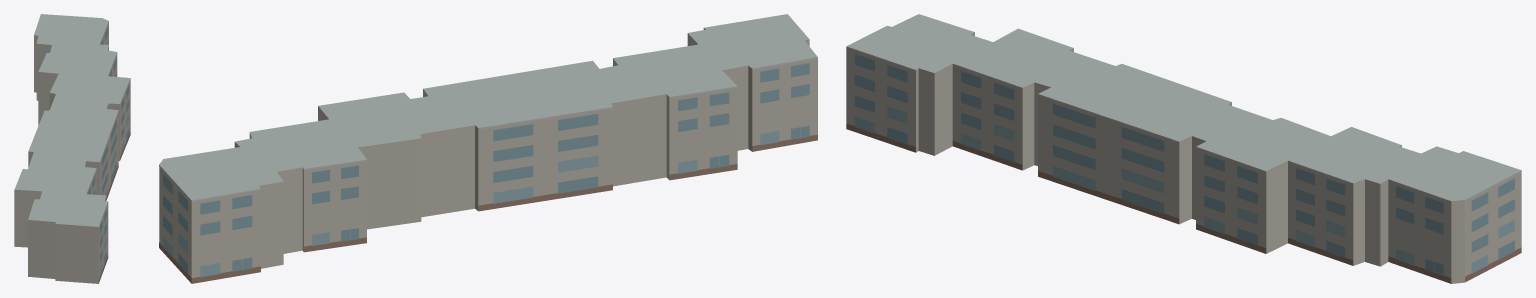
The model's file is survey-upis-32634933.glb.
The picture shows the model from 3 angles, left to right: view 1: azimuth 30°, elevation 25°; view 2: azimuth 150°, elevation 25°; view 3: azimuth 270°, elevation 25°; orthographic projection. The views are drawn at different scales.
Visible parts, largest first — view 1: survey-upis-32634933.tmp; view 2: survey-upis-32634933.tmp; view 3: survey-upis-32634933.tmp.
Part boxes in pixels (<box>): survey-upis-32634933.tmp: <box>14,14,130,283</box>; survey-upis-32634933.tmp: <box>159,14,817,283</box>; survey-upis-32634933.tmp: <box>846,14,1521,283</box>.
Bounding box in the file's own units: 59.19 × 12.2 × 90.24.
